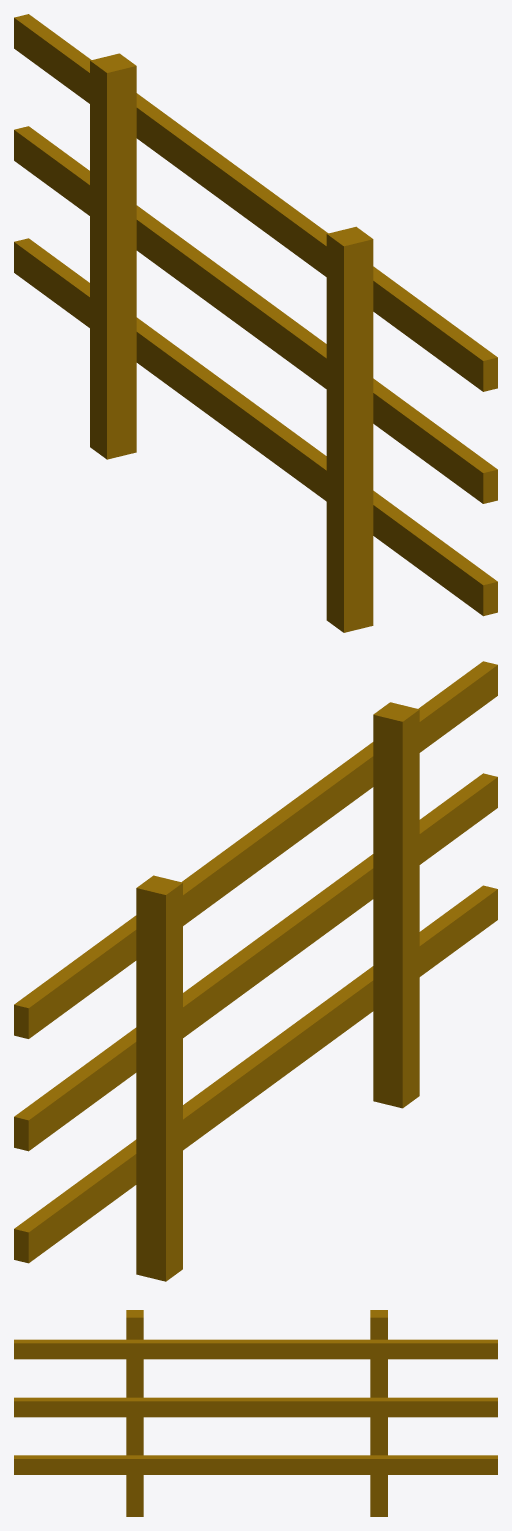
File: Fence3.fbx
3 views of the same model, one above another, from view 1: azimuth 30°, elevation 25°; view 2: azimuth 150°, elevation 25°; view 3: azimuth 270°, elevation 25° (orthographic). The views are drawn at different scales.
Visible parts, largest first — view 1: Fence3; view 2: Fence3; view 3: Fence3.
Part boxes in pixels (x1,y1,x2,y2): Fence3: (14,14,497,632); Fence3: (14,661,497,1281); Fence3: (14,1310,497,1516).
Size of the model in its own units: 12.28 by 100 by 220.
